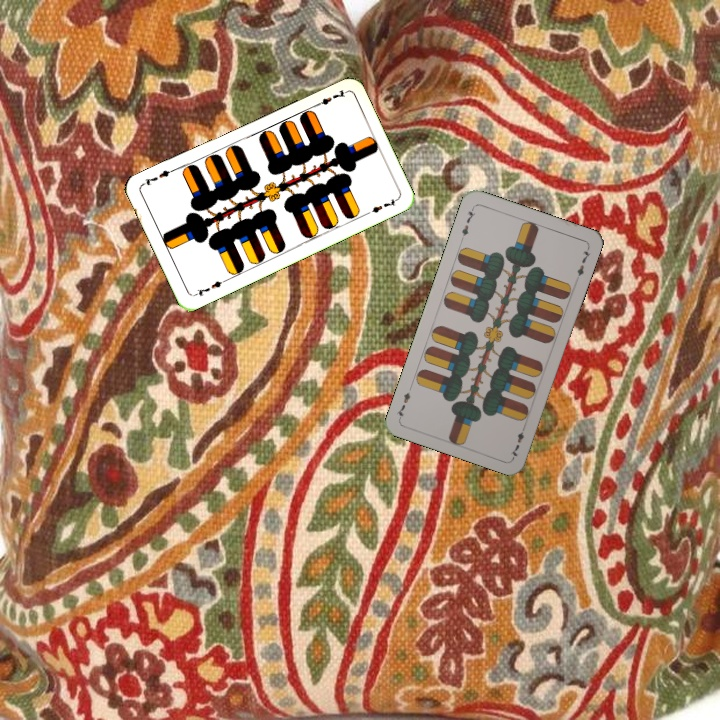E7: (310, 86, 348, 110), (191, 276, 229, 299), (457, 203, 478, 243), (507, 421, 527, 460)
